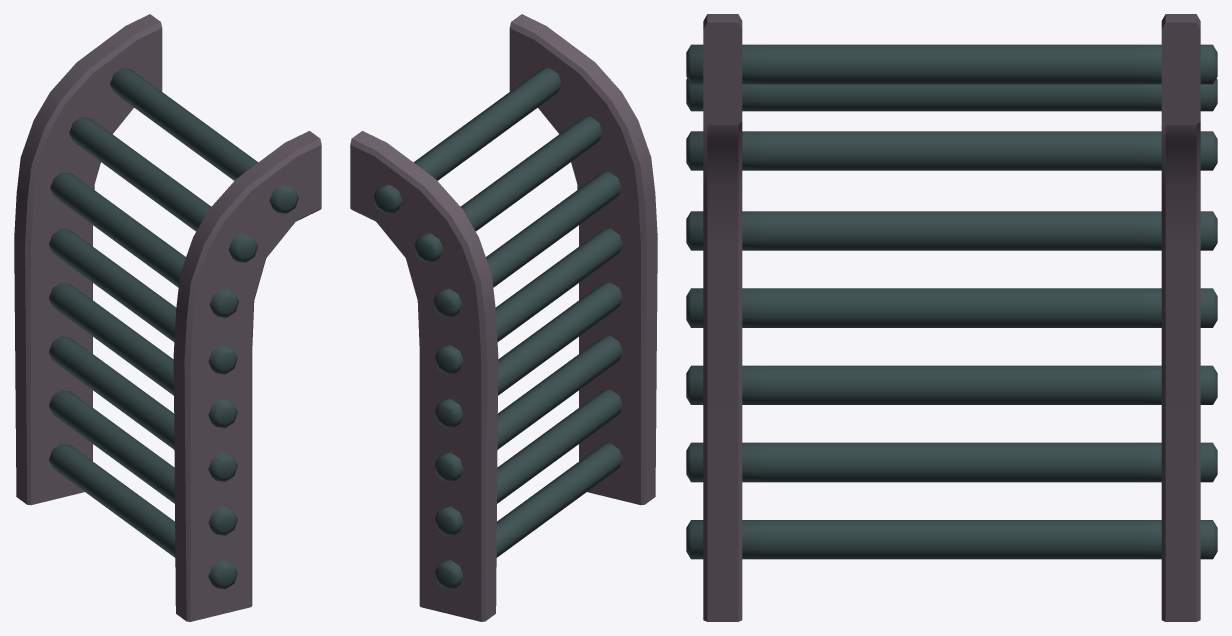
File: GB_128_129_142_143_ladder.glb
3 renders of one model, left to right at view 1: azimuth 30°, elevation 25°; view 2: azimuth 150°, elevation 25°; view 3: azimuth 270°, elevation 25°, orthographic. The views are drawn at different scales.
Visible parts, largest first — view 1: Railing.001; view 2: Railing.001; view 3: Railing.001.
Part boxes in pixels (x1,y1,x2,y2): Railing.001: [14, 14, 321, 621]; Railing.001: [350, 14, 657, 621]; Railing.001: [686, 14, 1217, 621].
Size of the model in its own units: 0.4723 by 1.5 by 1.11.
